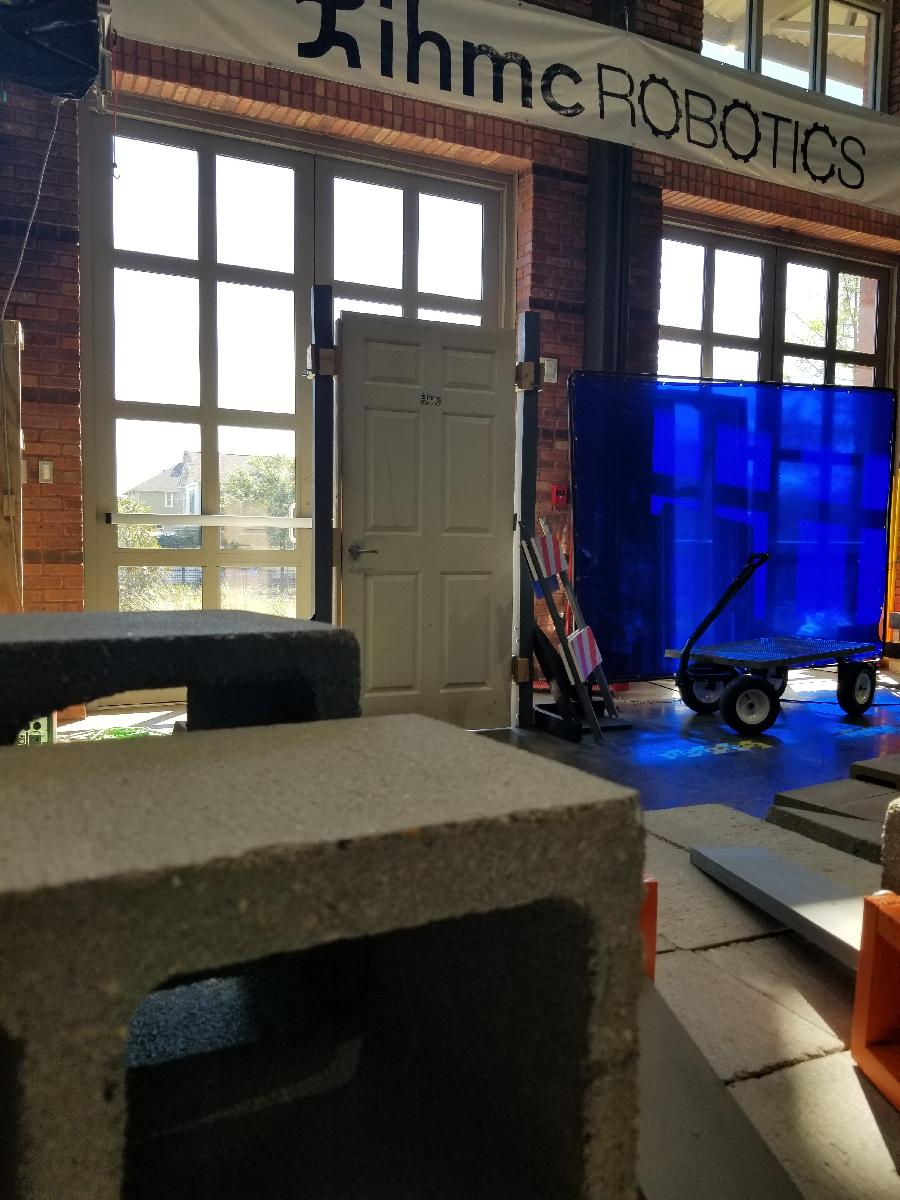door: (337, 305, 522, 746)
doorHandle: (345, 544, 382, 563)
